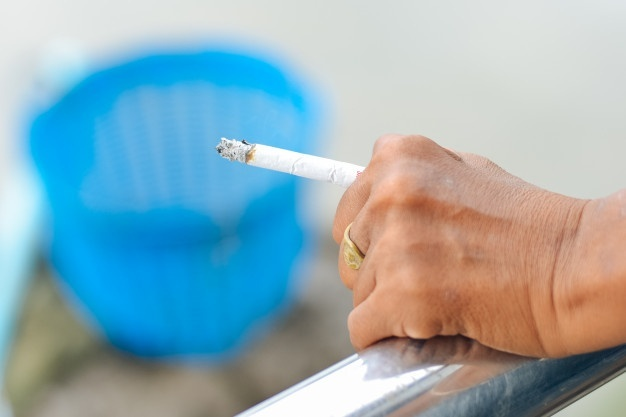sigaretta: (212, 136, 379, 185)
